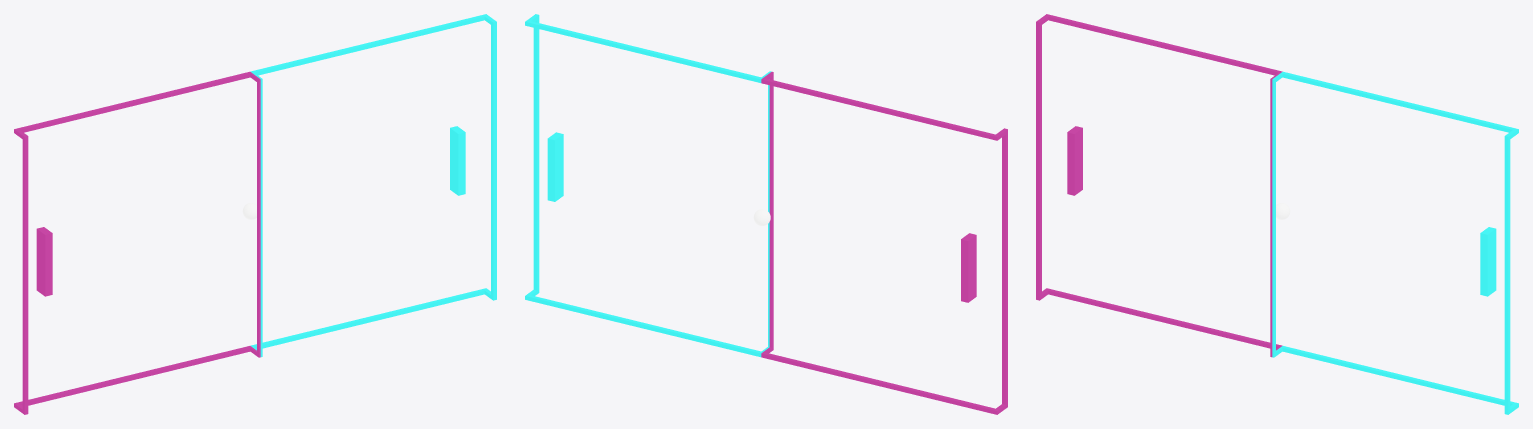
File: game.glb
The picture shows the model from 3 angles, left to right: view 1: azimuth 30°, elevation 25°; view 2: azimuth 150°, elevation 25°; view 3: azimuth 330°, elevation 25°; orthographic projection.
Parts seen in each view (by area): view 1: LGround, RGround, LRacket, RRacket; view 2: LGround, RGround, RRacket, LRacket; view 3: RGround, LGround, RRacket, LRacket.
Part boxes in pixels (x1=…): LGround: x1=14, y1=71, x2=260, y2=414; RGround: x1=250, y1=14, x2=496, y2=357; LRacket: x1=36, y1=227, x2=52, y2=296; RRacket: x1=450, y1=126, x2=465, y2=195; LGround: x1=761, y1=71, x2=1007, y2=414; RGround: x1=525, y1=14, x2=771, y2=357; RRacket: x1=547, y1=132, x2=563, y2=201; LRacket: x1=961, y1=233, x2=976, y2=302; RGround: x1=1272, y1=71, x2=1518, y2=414; LGround: x1=1036, y1=14, x2=1282, y2=357; RRacket: x1=1480, y1=227, x2=1496, y2=296; LRacket: x1=1067, y1=126, x2=1082, y2=195.
Size of the model in its own units: 32 by 18 by 1.63.
